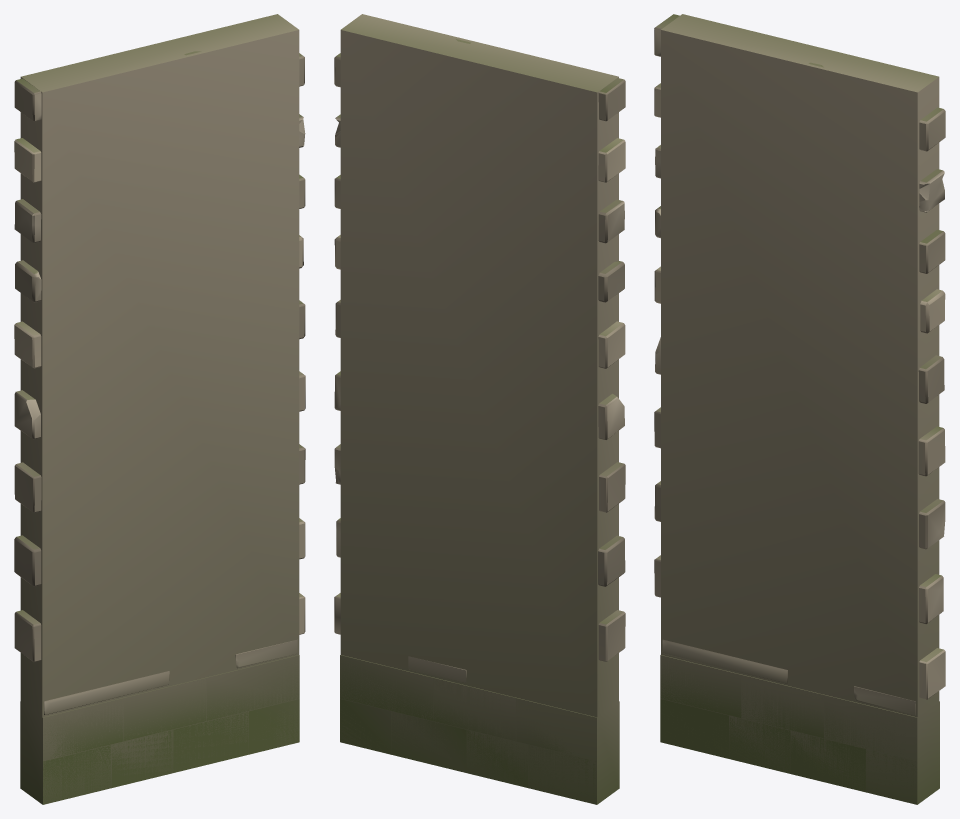
File: agora_stoa_wall.glb
The picture shows the model from 3 angles, left to right: view 1: azimuth 30°, elevation 25°; view 2: azimuth 150°, elevation 25°; view 3: azimuth 330°, elevation 25°; orthographic projection.
Parts seen in each view (by area): view 1: agora_stoa_wall_far, agora_stoa_wall; view 2: agora_stoa_wall_far, agora_stoa_wall; view 3: agora_stoa_wall_far, agora_stoa_wall.
Boxes of the visible parts, bbox=[...] form: agora_stoa_wall_far: bbox=[20, 14, 299, 804]; agora_stoa_wall: bbox=[14, 51, 305, 803]; agora_stoa_wall_far: bbox=[340, 14, 619, 804]; agora_stoa_wall: bbox=[334, 39, 625, 799]; agora_stoa_wall_far: bbox=[660, 14, 939, 804]; agora_stoa_wall: bbox=[654, 14, 945, 802].
Bounding box in the file's own units: 19.7 × 49 × 2.8.
